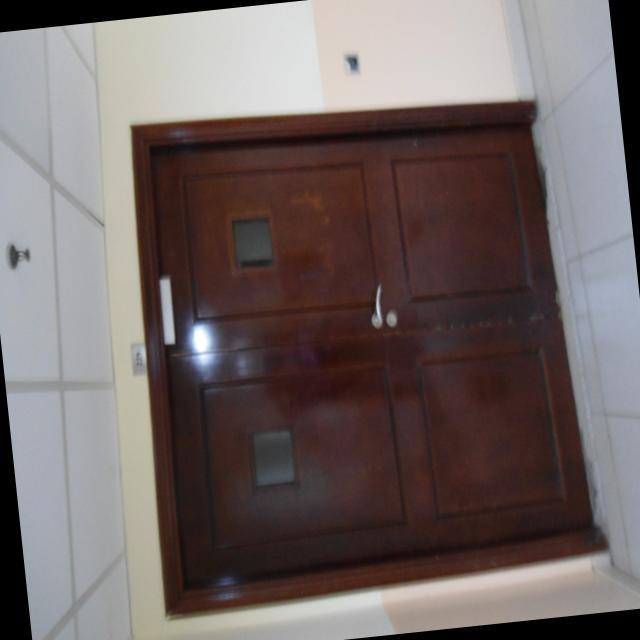door: (104, 81, 612, 616)
wall: (66, 0, 627, 631), (101, 574, 640, 640)
